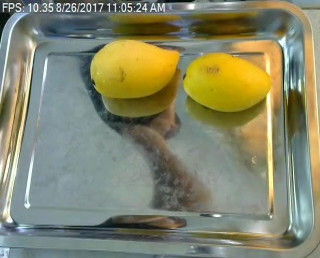Mango: (178, 46, 278, 116), (84, 36, 180, 98)
